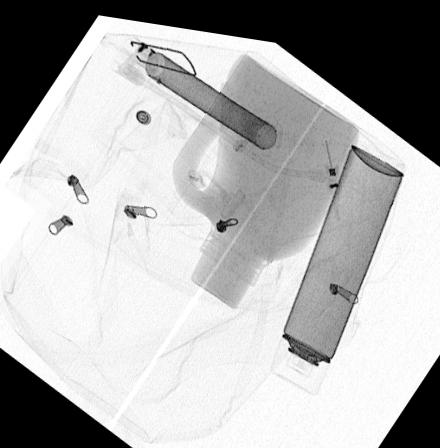Sprayer: (267, 131, 404, 386)
